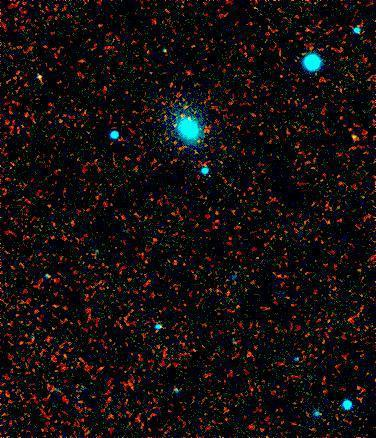star: (337, 122, 367, 152)
